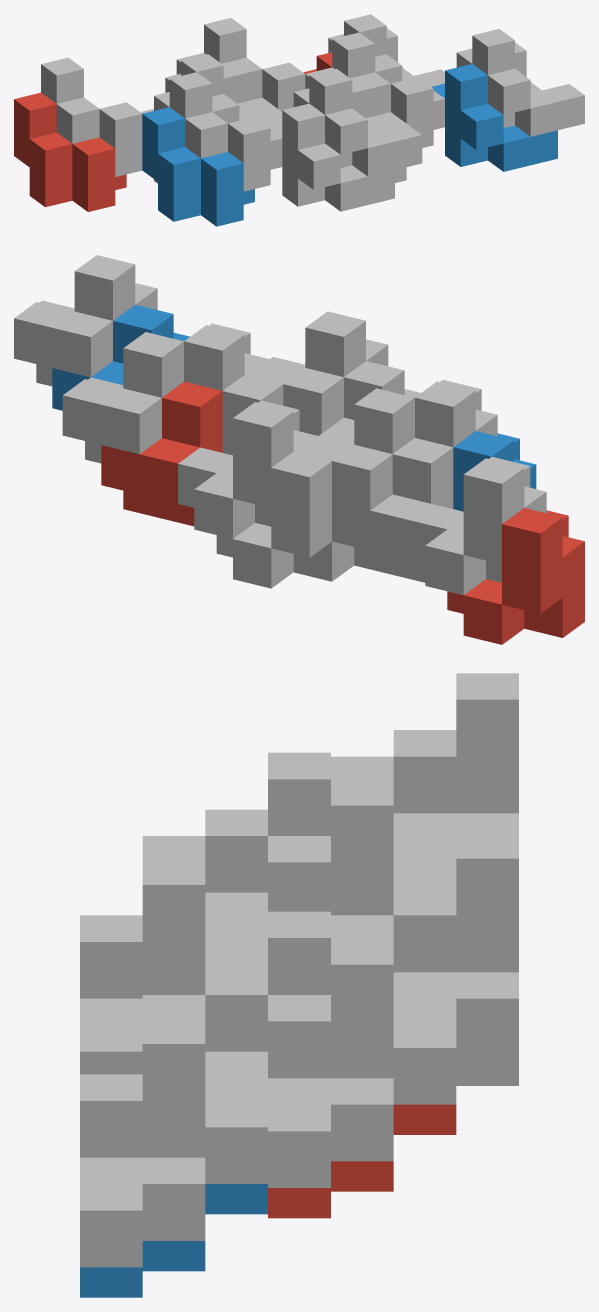
The model's file is tiling.obj.
The picture shows the model from 3 angles, top to bottom: view 1: azimuth 30°, elevation 25°; view 2: azimuth 150°, elevation 25°; view 3: azimuth 270°, elevation 25°; orthographic projection. The views are drawn at different scales.
Parts seen in each view (by area): view 1: copy_1_domain_1, copy_1_domain_2, copy_2_domain_2, copy_2_domain_6, copy_2_domain_4, copy_2_domain_8, copy_1_domain_4, copy_1_domain_3, copy_1_domain_8, copy_1_domain_7, copy_2_domain_3, copy_2_domain_7 (+4 smaller); view 2: copy_1_domain_1, copy_1_domain_3, copy_1_domain_5, copy_1_domain_7, copy_2_domain_8, copy_2_domain_7, copy_2_domain_1, copy_2_domain_5, copy_2_domain_4, copy_2_domain_3, copy_1_domain_4, copy_1_domain_8 (+4 smaller); view 3: copy_2_domain_8, copy_2_domain_7, copy_1_domain_7, copy_2_domain_4, copy_1_domain_3, copy_2_domain_3, copy_1_domain_4, copy_1_domain_8, copy_2_domain_5, copy_2_domain_6, copy_1_domain_5.
Boxes of the visible parts, bbox=[...] form: copy_1_domain_1: bbox=[14, 92, 126, 211]; copy_1_domain_2: bbox=[142, 107, 254, 226]; copy_2_domain_2: bbox=[269, 103, 394, 211]; copy_2_domain_6: bbox=[432, 64, 557, 171]; copy_2_domain_4: bbox=[293, 68, 422, 176]; copy_2_domain_8: bbox=[456, 29, 584, 136]; copy_1_domain_4: bbox=[169, 72, 282, 191]; copy_1_domain_3: bbox=[41, 57, 142, 176]; copy_1_domain_8: bbox=[332, 32, 444, 147]; copy_1_domain_7: bbox=[204, 18, 305, 111]; copy_2_domain_3: bbox=[165, 54, 282, 126]; copy_2_domain_7: bbox=[328, 14, 444, 86]; copy_1_domain_1: bbox=[447, 508, 584, 644]; copy_1_domain_3: bbox=[409, 457, 546, 595]; copy_1_domain_5: bbox=[216, 451, 354, 588]; copy_1_domain_7: bbox=[178, 400, 315, 538]; copy_2_domain_8: bbox=[14, 255, 157, 386]; copy_2_domain_7: bbox=[62, 332, 183, 463]; copy_2_domain_1: bbox=[332, 438, 453, 582]; copy_2_domain_5: bbox=[101, 381, 222, 526]; copy_2_domain_4: bbox=[245, 311, 388, 433]; copy_2_domain_3: bbox=[294, 388, 414, 510]; copy_1_domain_4: bbox=[415, 380, 497, 447]; copy_1_domain_8: bbox=[184, 323, 266, 390]; copy_2_domain_8: bbox=[80, 1017, 267, 1267]; copy_2_domain_7: bbox=[268, 938, 456, 1187]; copy_1_domain_7: bbox=[331, 832, 518, 1055]; copy_2_domain_4: bbox=[80, 858, 267, 1074]; copy_1_domain_3: bbox=[331, 673, 518, 835]; copy_2_domain_3: bbox=[268, 779, 456, 915]; copy_1_domain_4: bbox=[142, 752, 330, 915]; copy_1_domain_8: bbox=[142, 911, 330, 1074]; copy_2_domain_5: bbox=[268, 1104, 456, 1218]; copy_2_domain_6: bbox=[80, 1184, 267, 1297]; copy_1_domain_5: bbox=[456, 1055, 518, 1085].
Bounding box in the file's own units: 17 × 4 × 7.
